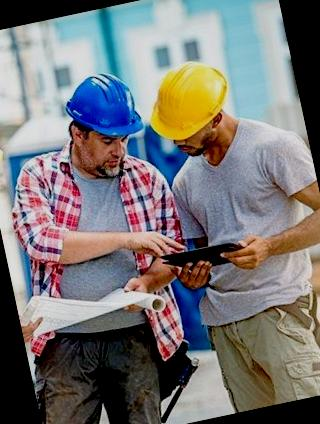helmet: (138, 51, 238, 150), (54, 64, 148, 156)
no_vest: (175, 139, 320, 342), (14, 168, 172, 342)
person: (0, 62, 210, 424), (133, 38, 320, 418)
